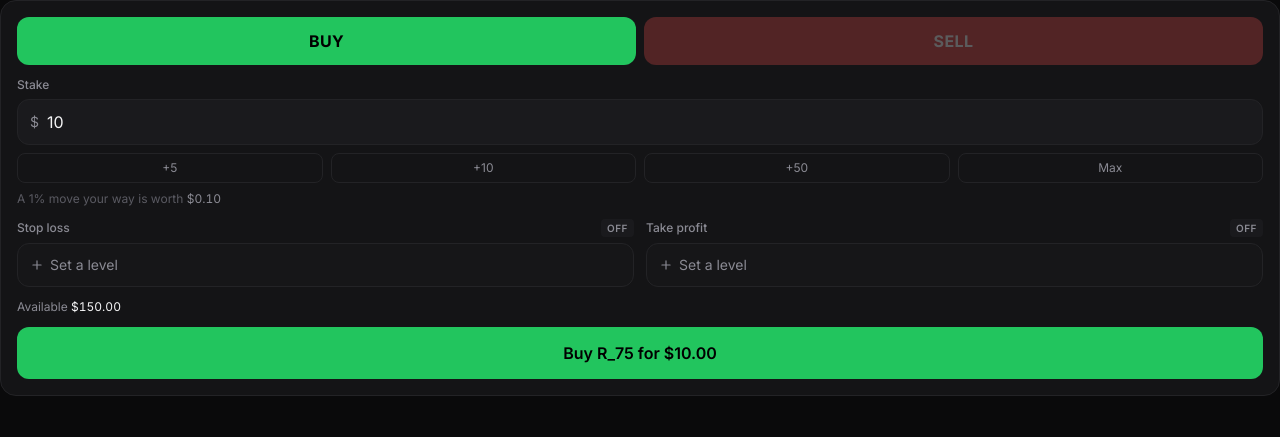
Test case: OrderTicket › refuses a stop loss above the price on a buy, naming the field
The image size is (1280, 437).
Click the button with aria-label "set stop loss" at [618, 228], box [601,219,634,237]
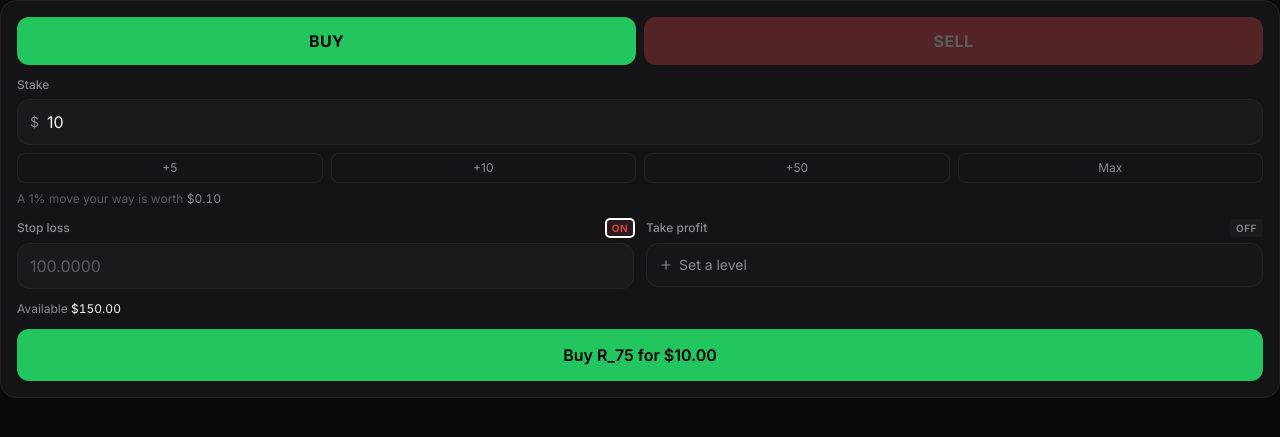
Type "150" into the field labelled "Stop loss" at [326, 266], box [30,244,621,288]
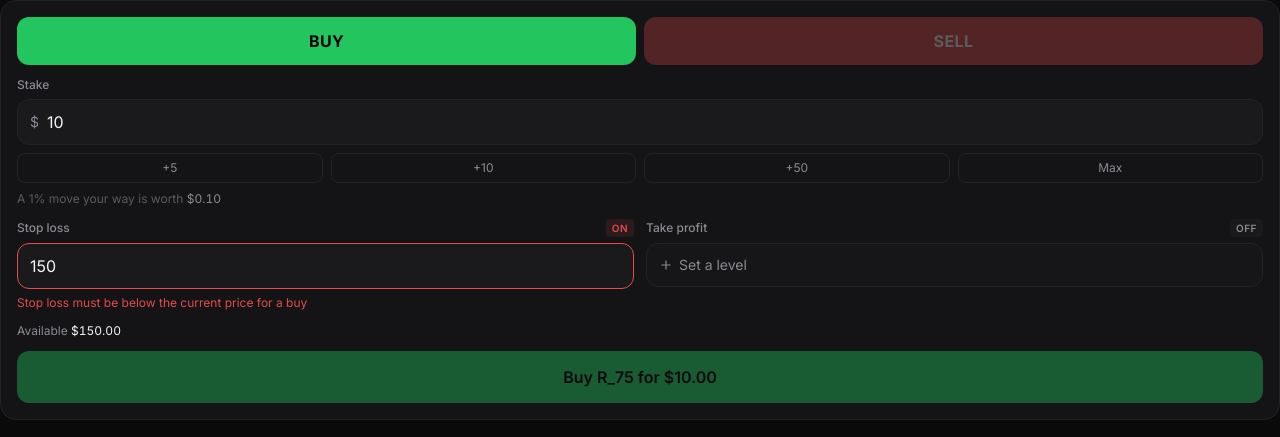
Check: the text "Stop loss must be below the current price for a buy" is shown, box [17,295,307,310]
